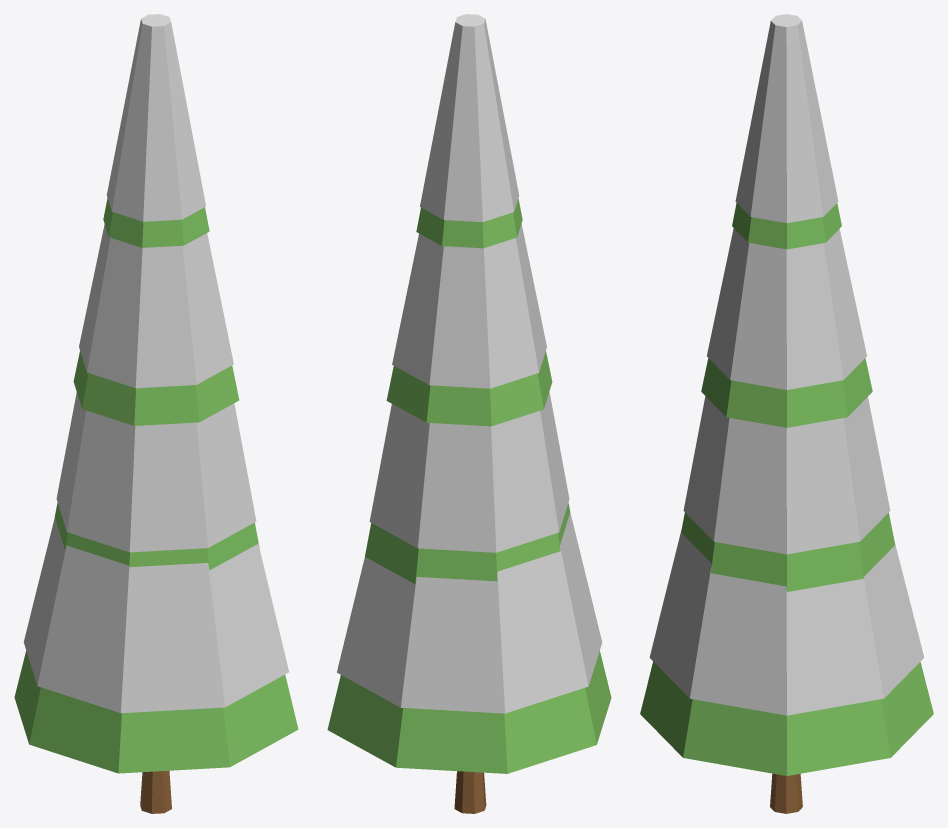
The model's file is Spruce Tree 4.fbx.
3 views of the same model, side by side, from view 1: azimuth 30°, elevation 25°; view 2: azimuth 150°, elevation 25°; view 3: azimuth 270°, elevation 25° (orthographic).
Visible parts, largest first — view 1: Spruce Tree 4; view 2: Spruce Tree 4; view 3: Spruce Tree 4.
Part boxes in pixels (<box>): Spruce Tree 4: <box>14,14,298,813</box>; Spruce Tree 4: <box>327,14,611,813</box>; Spruce Tree 4: <box>640,14,933,813</box>.
Size of the model in its own units: 82.22 by 243 by 82.22.
